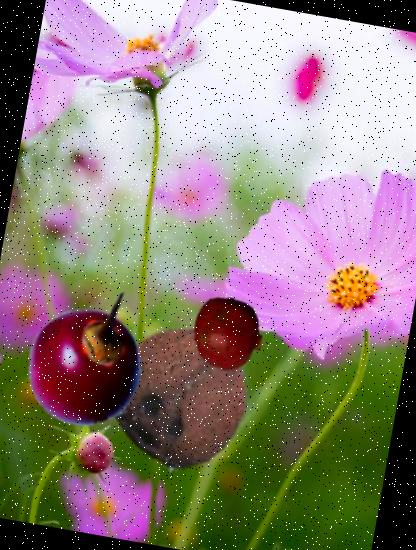Cocos: (91, 311, 265, 486)
Pomegranate: (185, 292, 271, 377)
Tamarillo: (15, 294, 157, 437)
